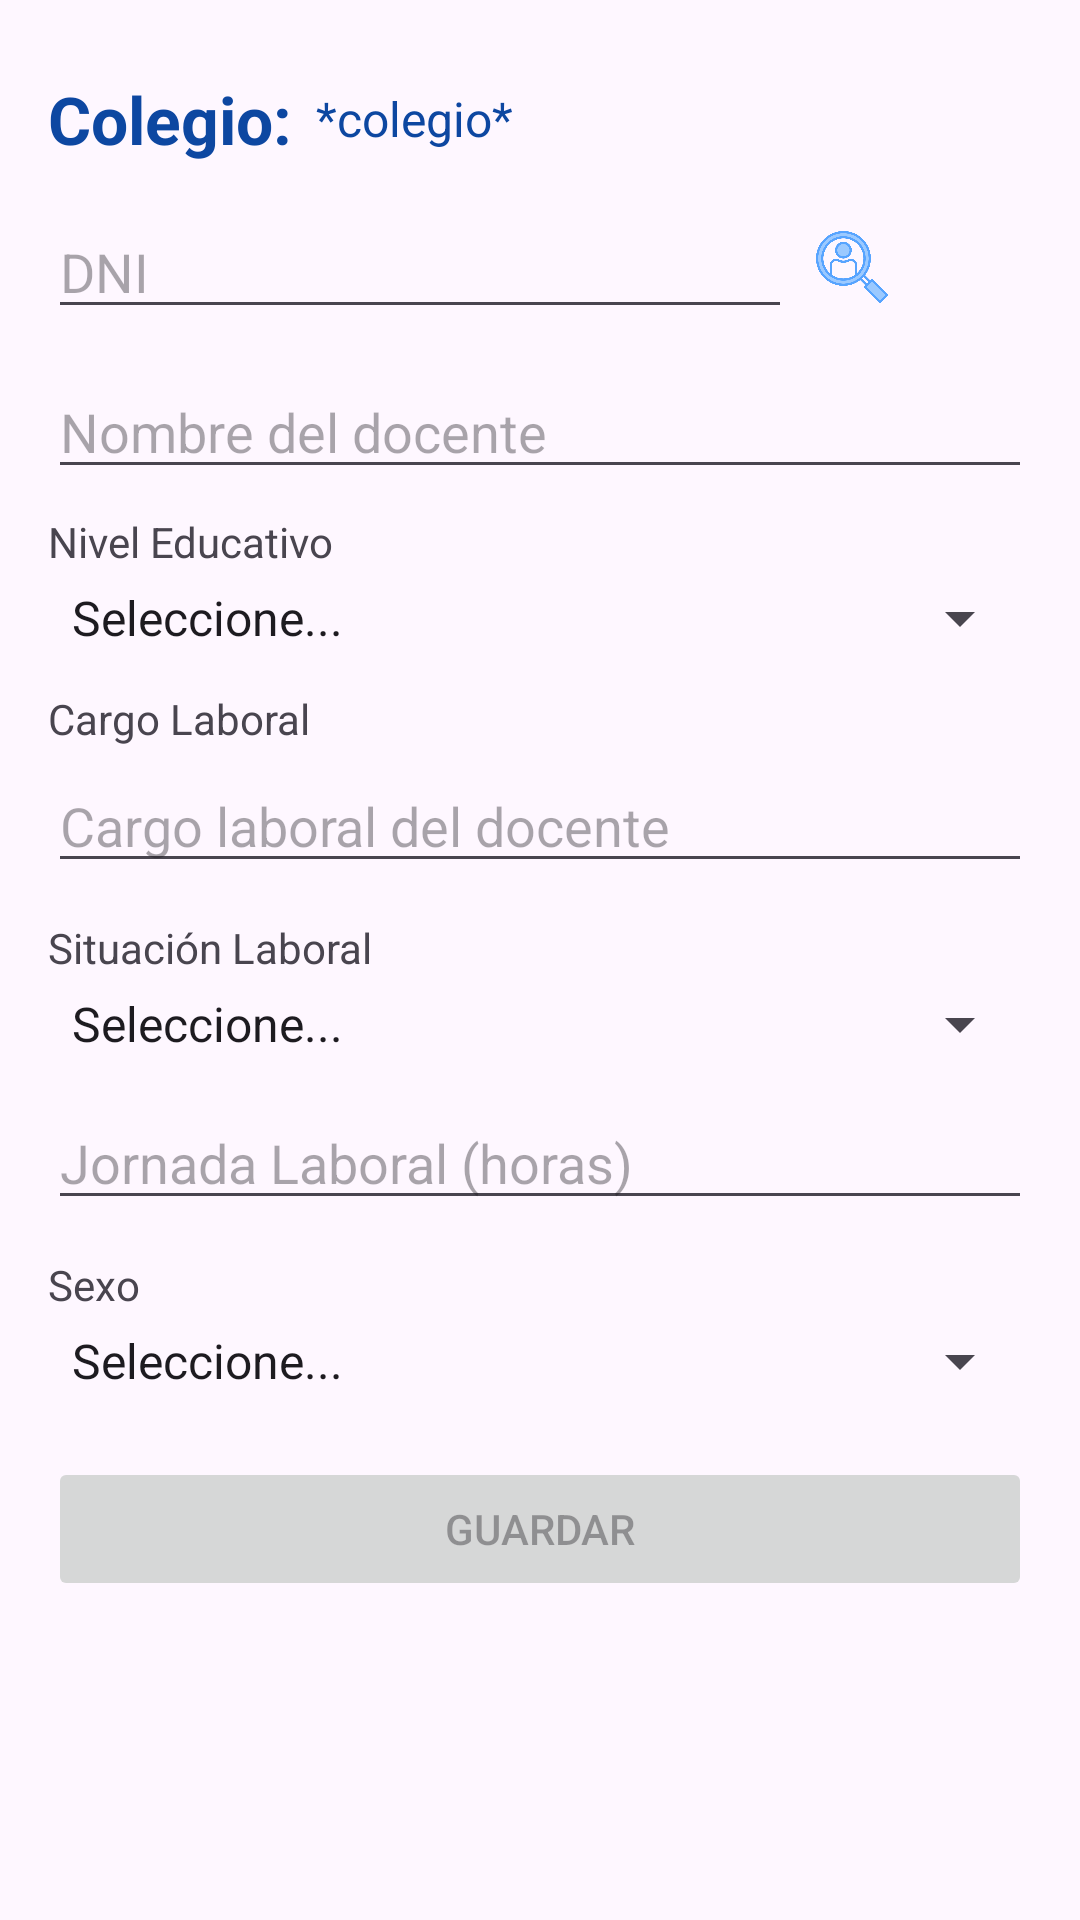

Locate icon controls on the screen. Image size 1080x1920, boxes as (x1, y1, x2, y2).
buscar: (816, 231, 888, 303)
